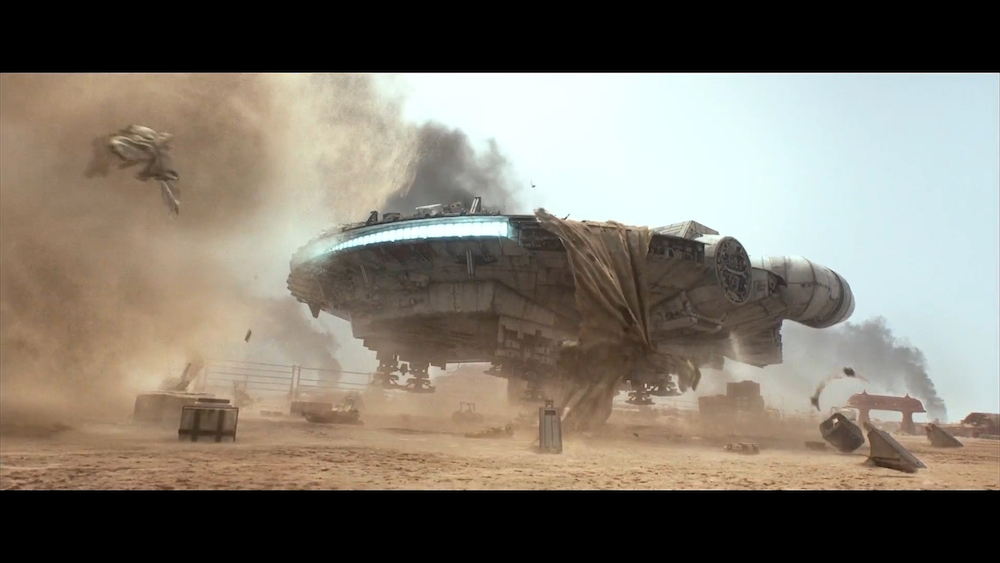Millennium Falcon: (287, 205, 857, 389)
